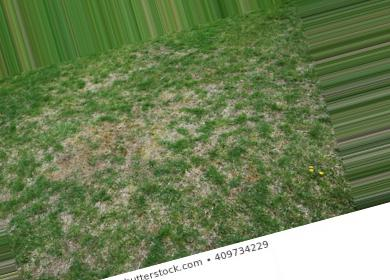patch: (121, 127, 167, 165), (65, 143, 95, 173)
